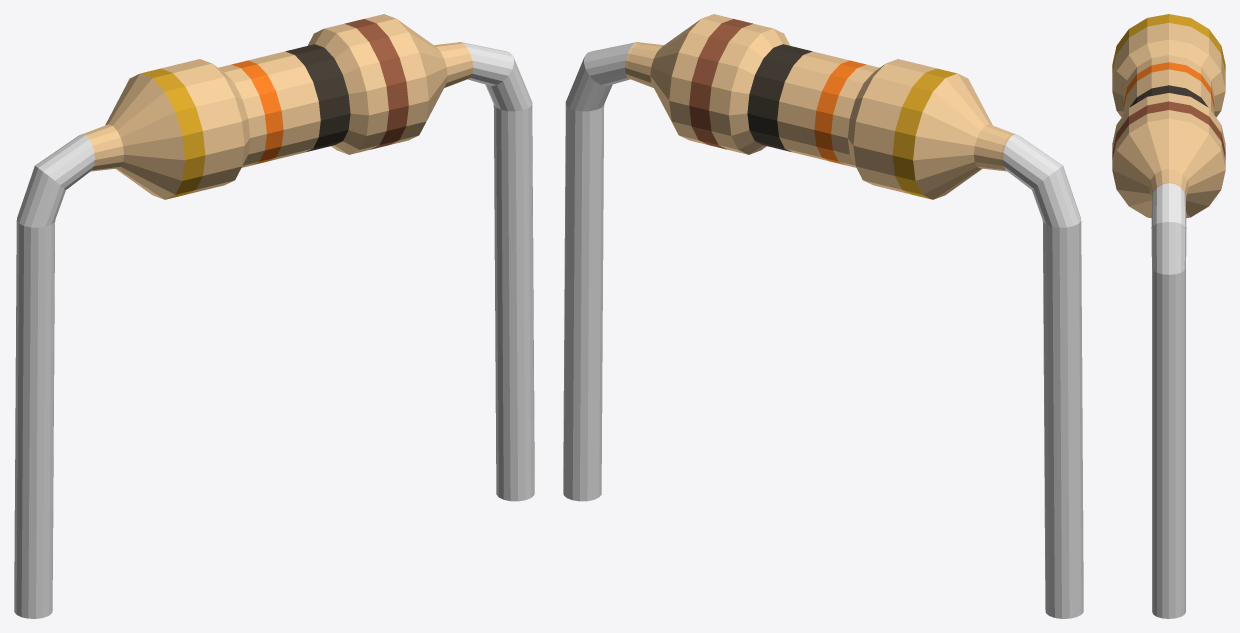
File: resistor1.glb
The picture shows the model from 3 angles, left to right: view 1: azimuth 30°, elevation 25°; view 2: azimuth 150°, elevation 25°; view 3: azimuth 270°, elevation 25°; orthographic projection. The views are drawn at different scales.
Parts seen in each view (by area): view 1: Resistor.000; view 2: Resistor.000; view 3: Resistor.000.
Boxes of the visible parts, bbox=[...] form: Resistor.000: bbox=[14, 14, 534, 618]; Resistor.000: bbox=[563, 14, 1083, 618]; Resistor.000: bbox=[1112, 14, 1225, 618].
Size of the model in its own units: 0.1444 by 0.1348 by 0.0314.
